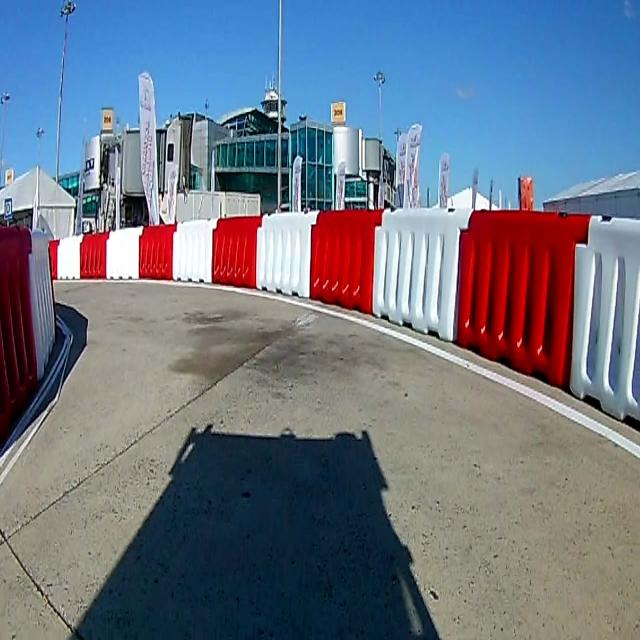durak: (4, 200, 12, 215)
